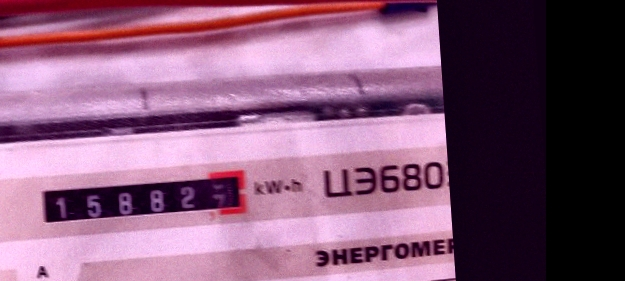1: (53, 195, 69, 220)
2: (178, 183, 196, 210)
5: (84, 192, 102, 218)
7: (210, 191, 225, 208)
8: (115, 190, 133, 215), (147, 186, 164, 212)
screen: (28, 162, 257, 237)
